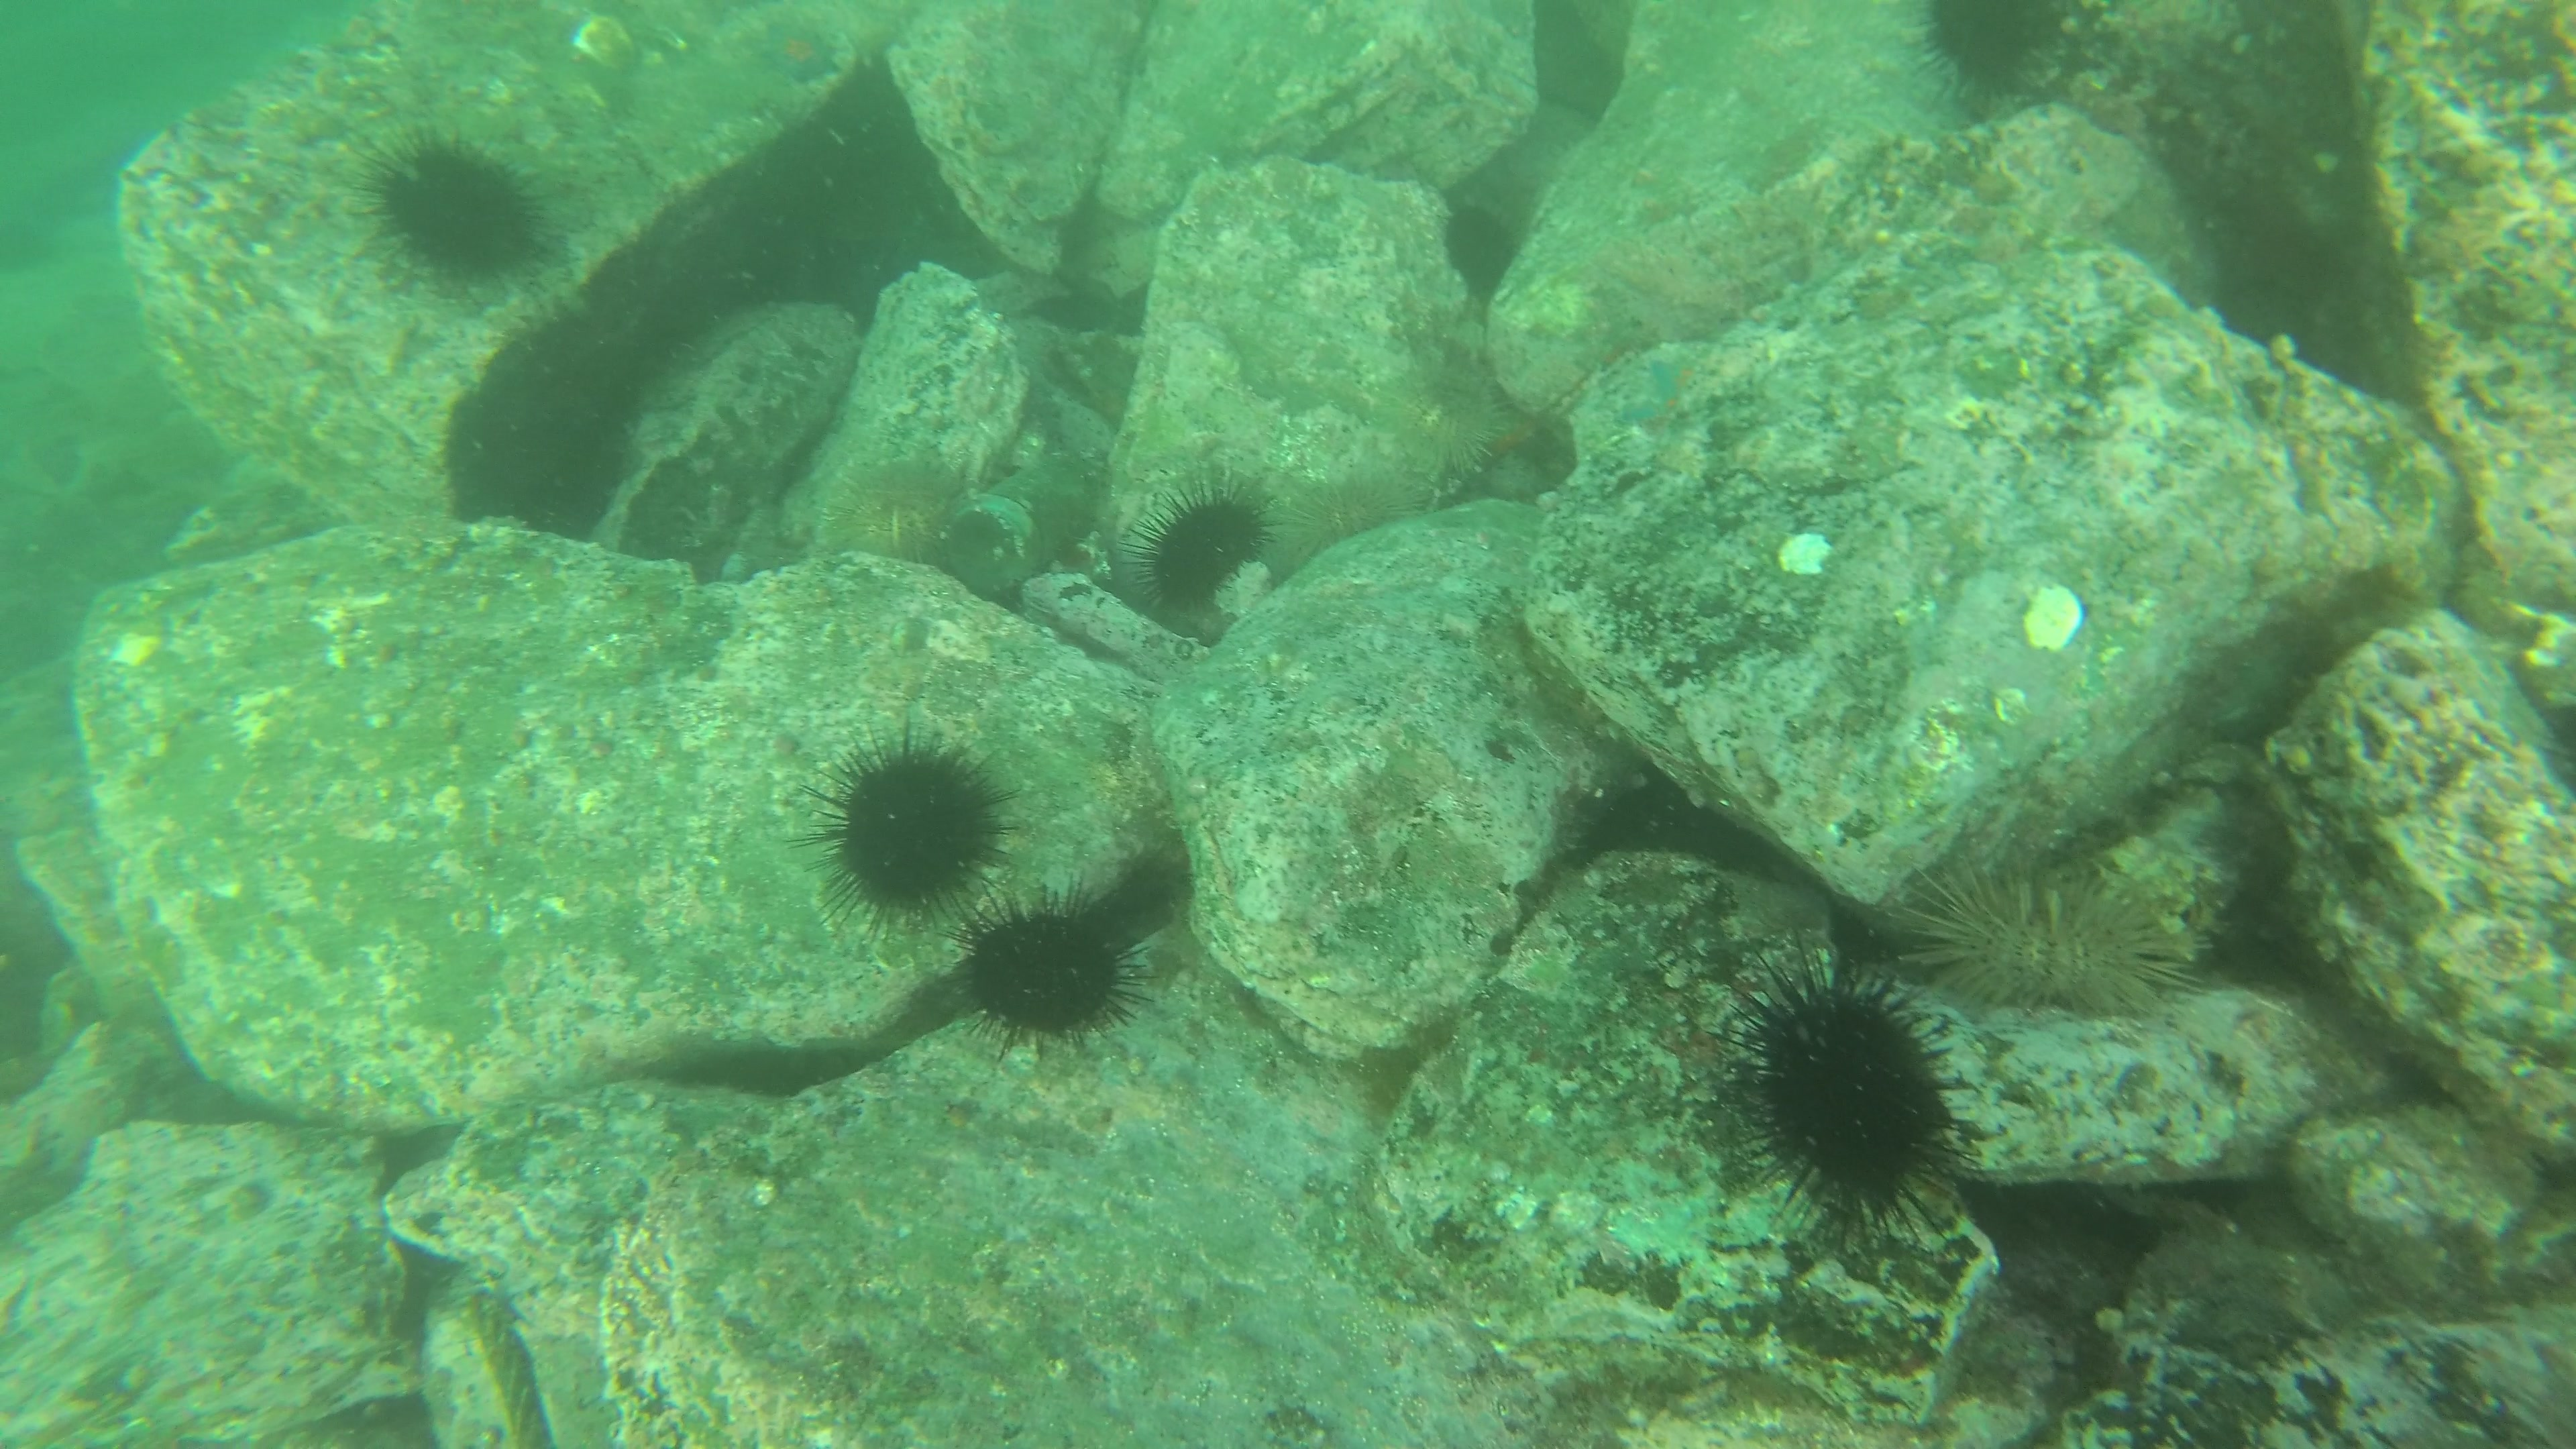echinus: (1743, 968, 1944, 1214), (1927, 862, 2181, 1017), (817, 741, 1001, 913), (962, 906, 1139, 1049), (370, 142, 538, 283), (1152, 492, 1277, 607), (1928, 4, 2065, 83)
